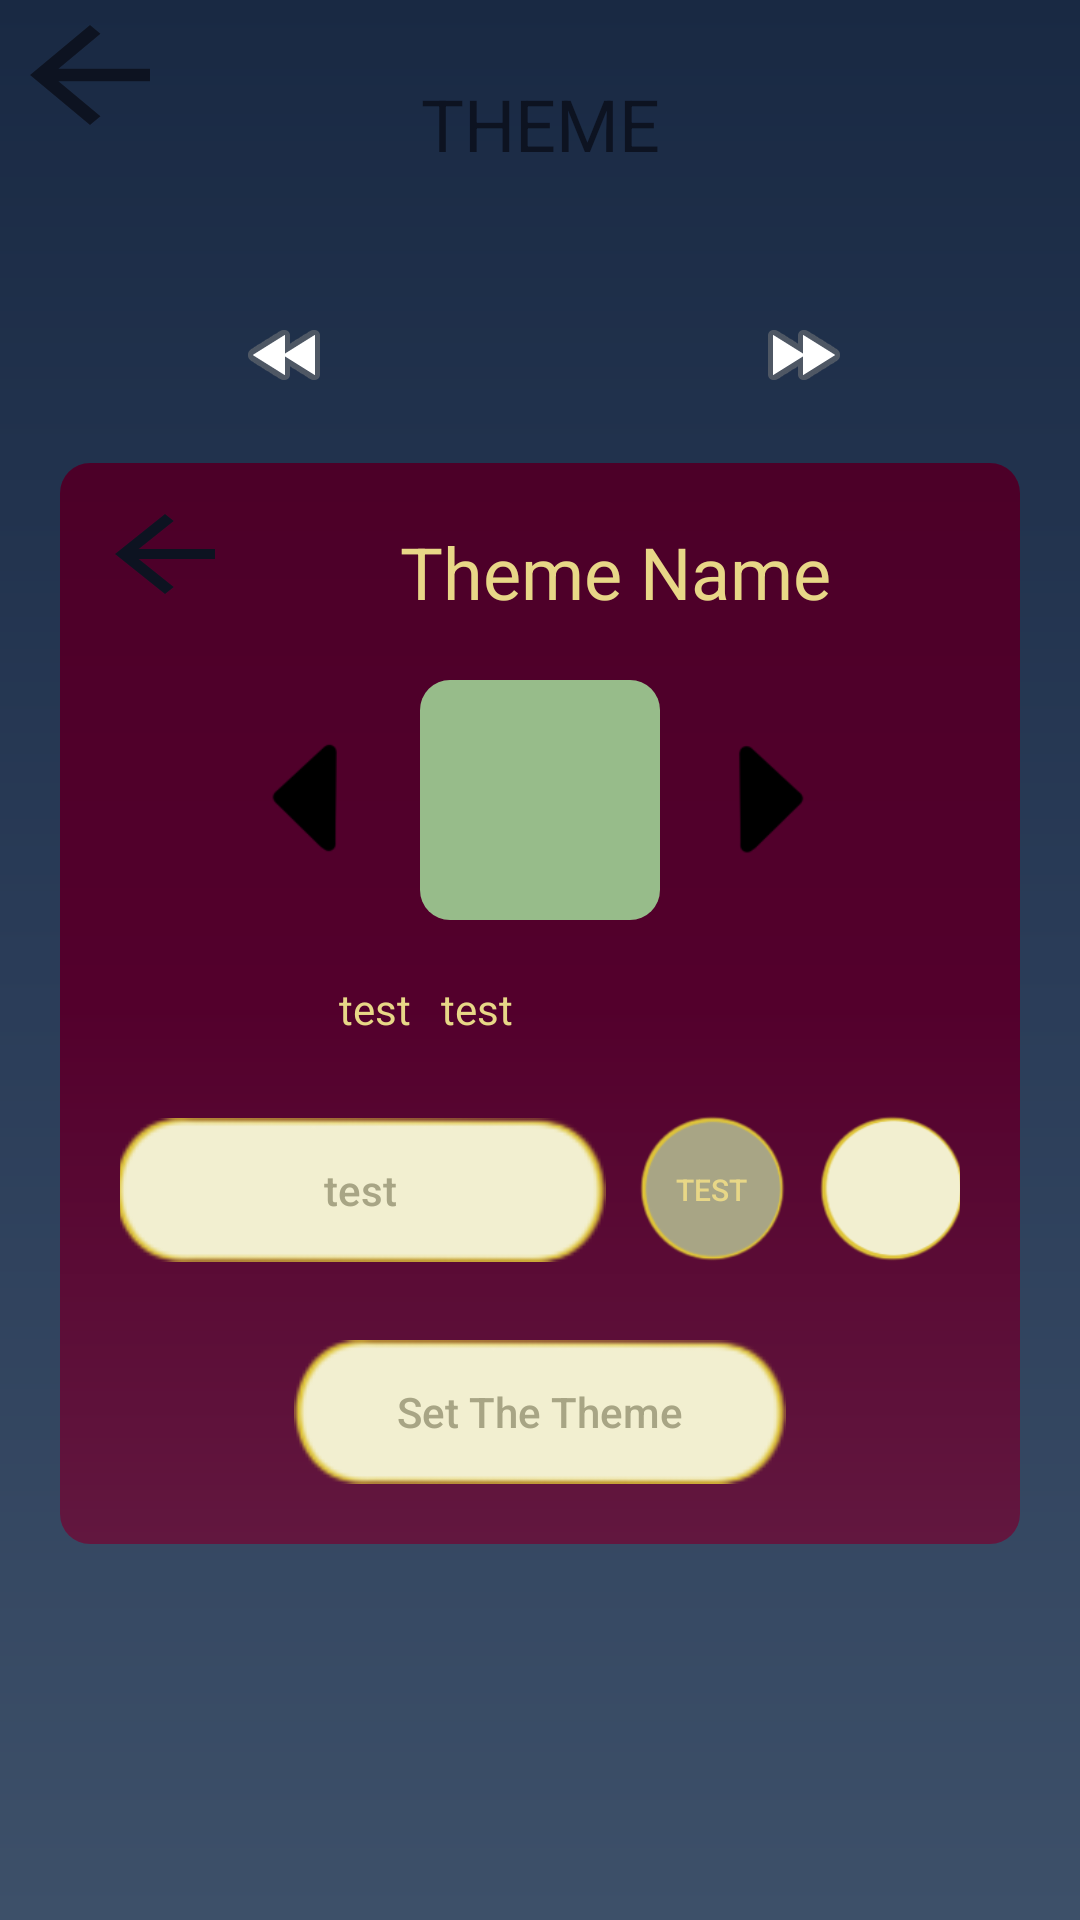

Screen size 1080px x 1920px. Icon name, then its box in pixels as (x1, y1, x2, y2):
left: (273, 745, 337, 851)
rew: (248, 330, 320, 380)
right: (739, 746, 803, 853)
